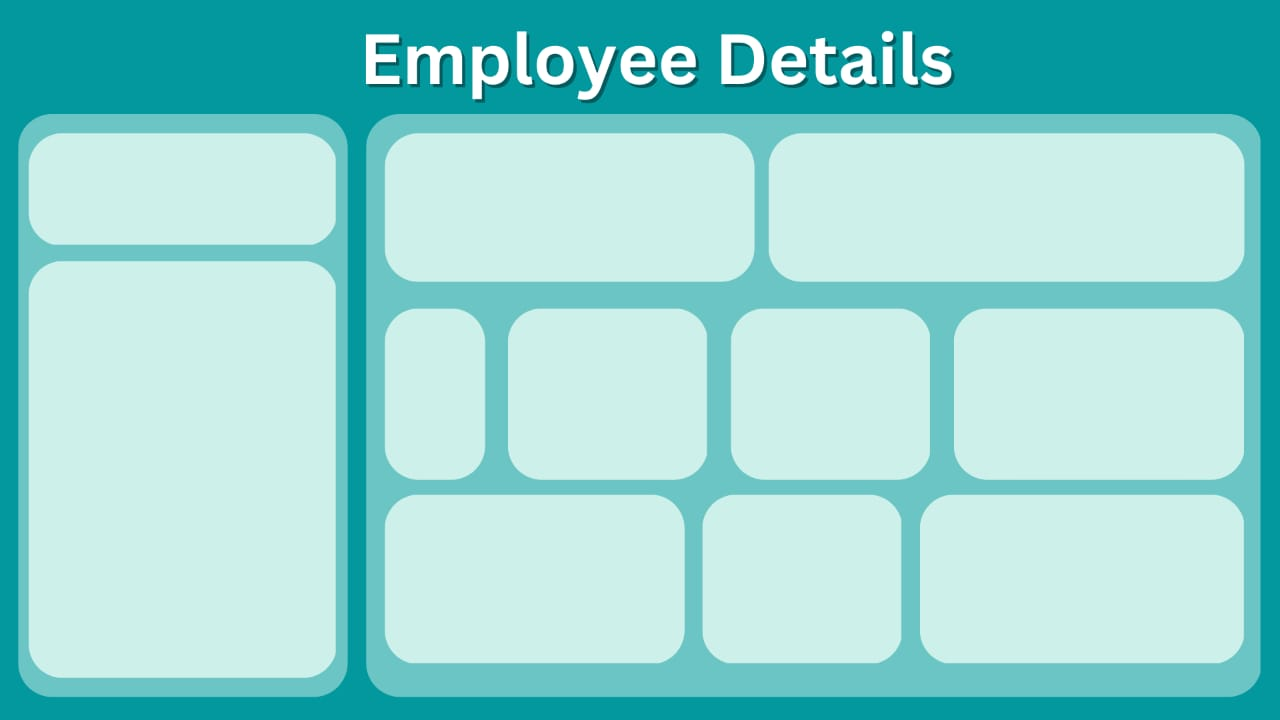

This screenshot's page, from the dashboard's own definition file:
{"tool":"powerbi","page":{"name":"Page 2","canvas":[1280,720],"ordinal":1},"visuals":[{"type":"card","title":"Employee Name","fields":{"Values":["HRDataset.Employee_Name"]},"box":[401.5,146.7,349.2,144.5],"z":0},{"type":"card","title":"DOB","fields":{"Values":["HRDataset.DOB"]},"box":[742.7,333.3,182,133.1],"z":1000},{"type":"card","title":"Gender","fields":{"Values":["HRDataset.Sex"]},"box":[389,333.3,85.3,133.1],"z":2000},{"type":"card","title":"Marital Status","fields":{"Values":["HRDataset.MaritalDesc"]},"box":[527.8,332.1,153.6,131.9],"z":3000},{"type":"card","title":"Performance Score","fields":{"Values":["HRDataset.PerformanceScore"]},"box":[929.3,509.6,331,147.9],"z":4000},{"type":"card","title":"Salary","fields":{"Values":["HRDataset.Salary"]},"box":[714.3,509.6,174,147.9],"z":5000},{"type":"card","title":"Position","fields":{"Values":["HRDataset.Position"]},"box":[781.4,146.7,478.9,133.1],"z":6000},{"type":"card","title":"Manager Name","fields":{"Values":["HRDataset.ManagerName"]},"box":[389,509.6,267.3,147.9],"z":7000},{"type":"slicer","fields":{"Values":["HRDataset.Department"]},"box":[38.7,135.4,276.4,86.4],"z":8000},{"type":"slicer","fields":{"Values":["HRDataset.Employee_Name"]},"box":[38.7,291.2,287.8,366.3],"z":9000},{"type":"actionButton","box":[0,0,100,40],"z":10000},{"type":"card","title":"Joining Date","fields":{"Values":["HRDataset.DateofHire"]},"box":[971.4,333.3,244.5,133.1],"z":11000},{"type":"shape","title":"Page 1","box":[1215.7,351,63.9,49.4],"z":12000}]}

Visuals, with their boxes in screenshot pixels (x1, y1, x2, y2), scaled from the page's 1280x720 canvas onto the 1280x720 screenshot:
"Employee Name" card: (402, 147, 751, 291)
"DOB" card: (743, 333, 925, 466)
"Gender" card: (389, 333, 474, 466)
"Marital Status" card: (528, 332, 681, 464)
"Performance Score" card: (929, 510, 1260, 658)
"Salary" card: (714, 510, 888, 658)
"Position" card: (781, 147, 1260, 280)
"Manager Name" card: (389, 510, 656, 658)
slicer - HRDataset.Department: (39, 135, 315, 222)
slicer - HRDataset.Employee_Name: (39, 291, 326, 658)
actionButton: (0, 0, 100, 40)
"Joining Date" card: (971, 333, 1216, 466)
"Page 1" shape: (1216, 351, 1279, 400)
